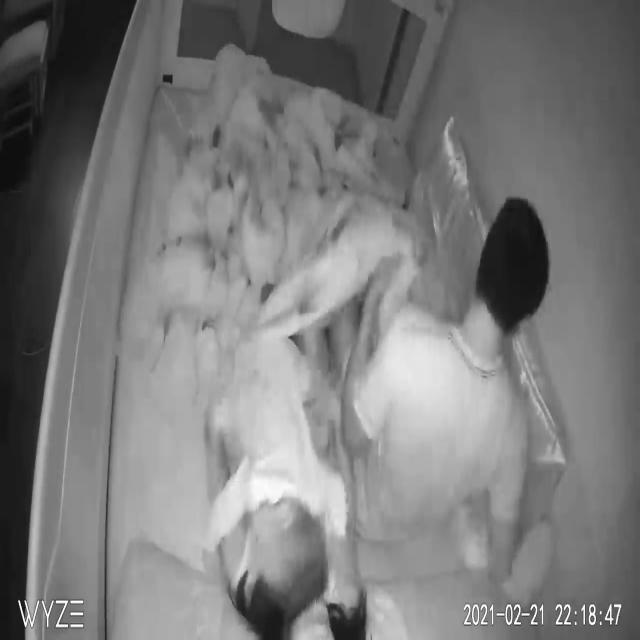baby: (202, 331, 345, 612)
